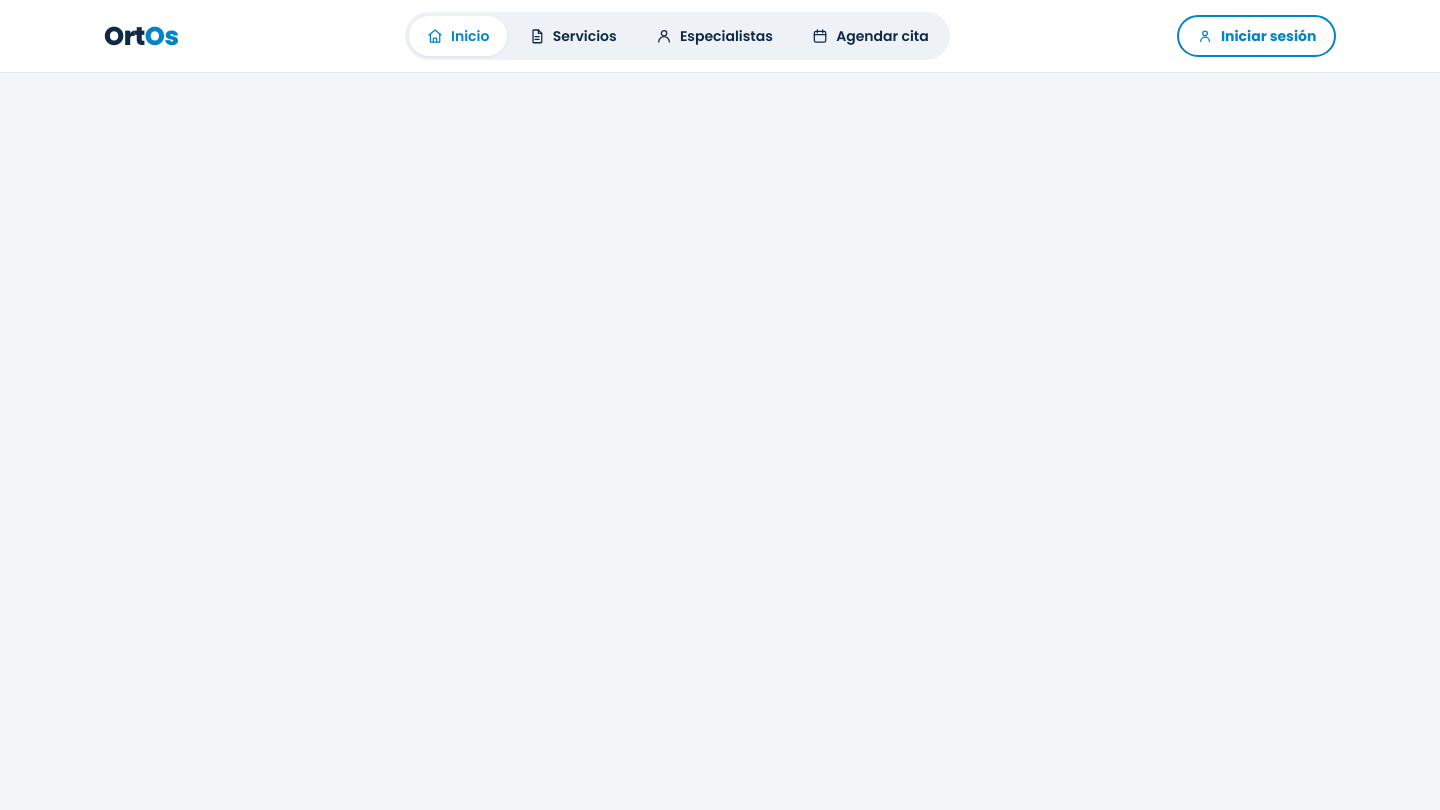
Navbar › el botón de iniciar sesión abre el modal
Click the button "Iniciar sesión". click: (1257, 36)
box: [1177, 15, 1336, 57]
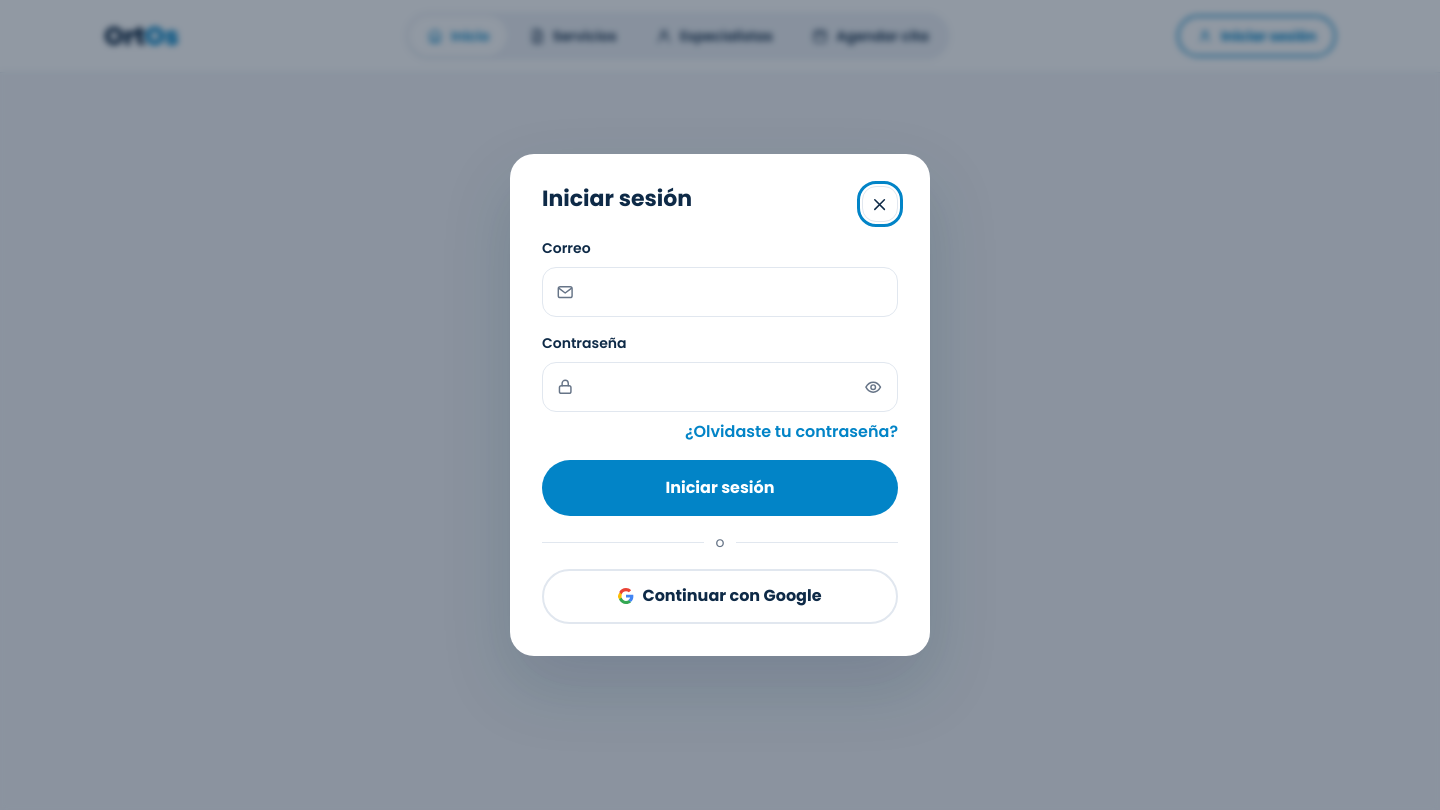
Now the dialog is shown, box [510, 154, 930, 656]
